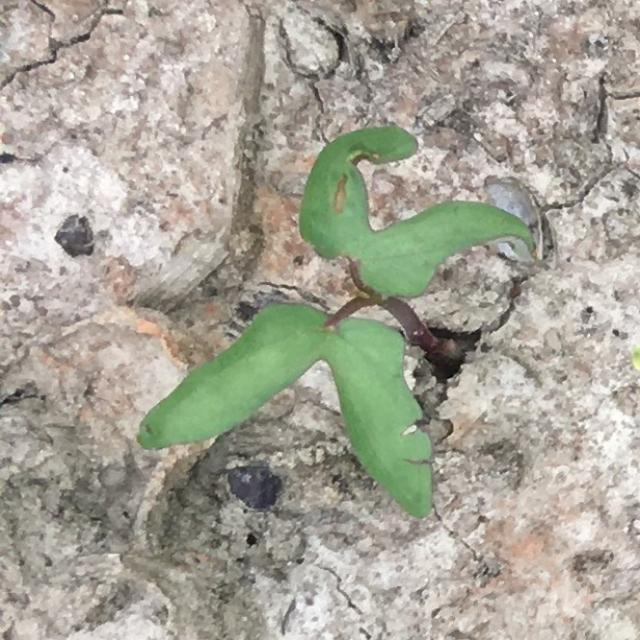MorningGlory: (137, 126, 535, 519)
